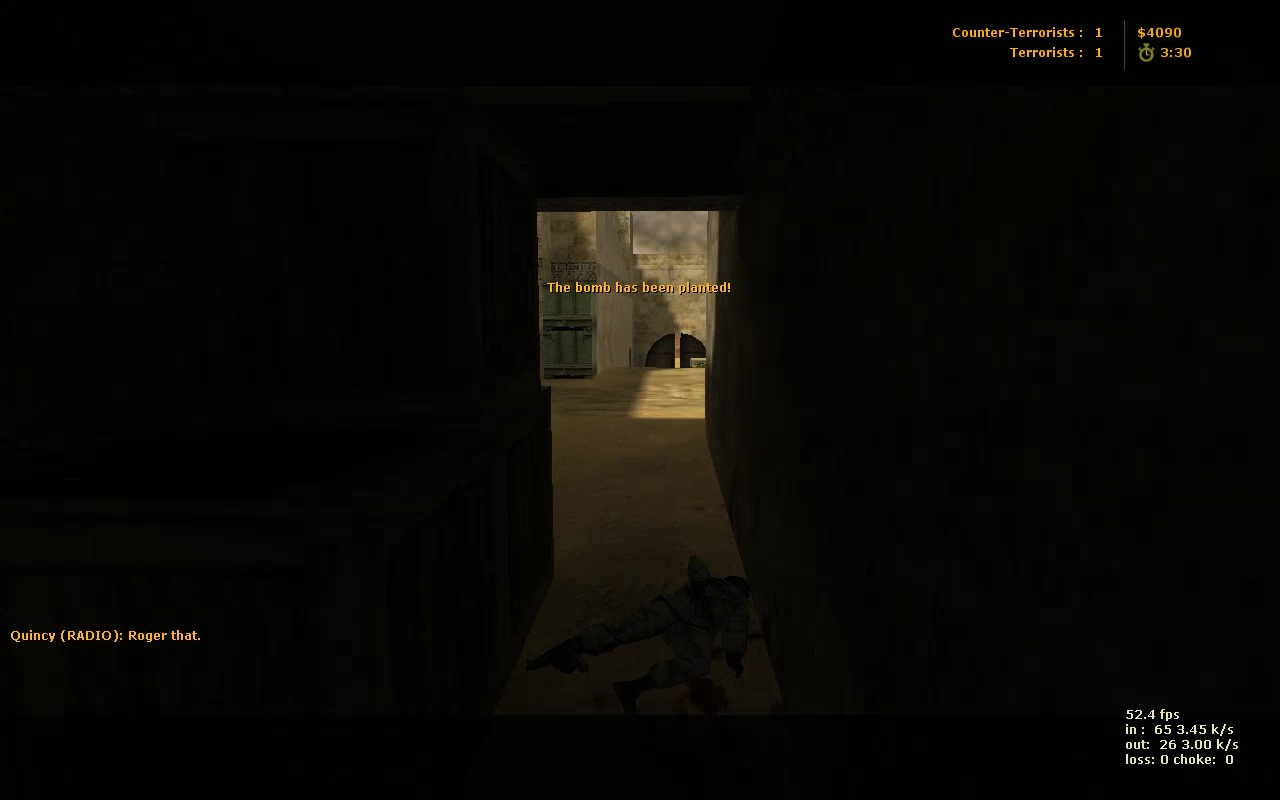dead: (529, 553, 767, 707)
